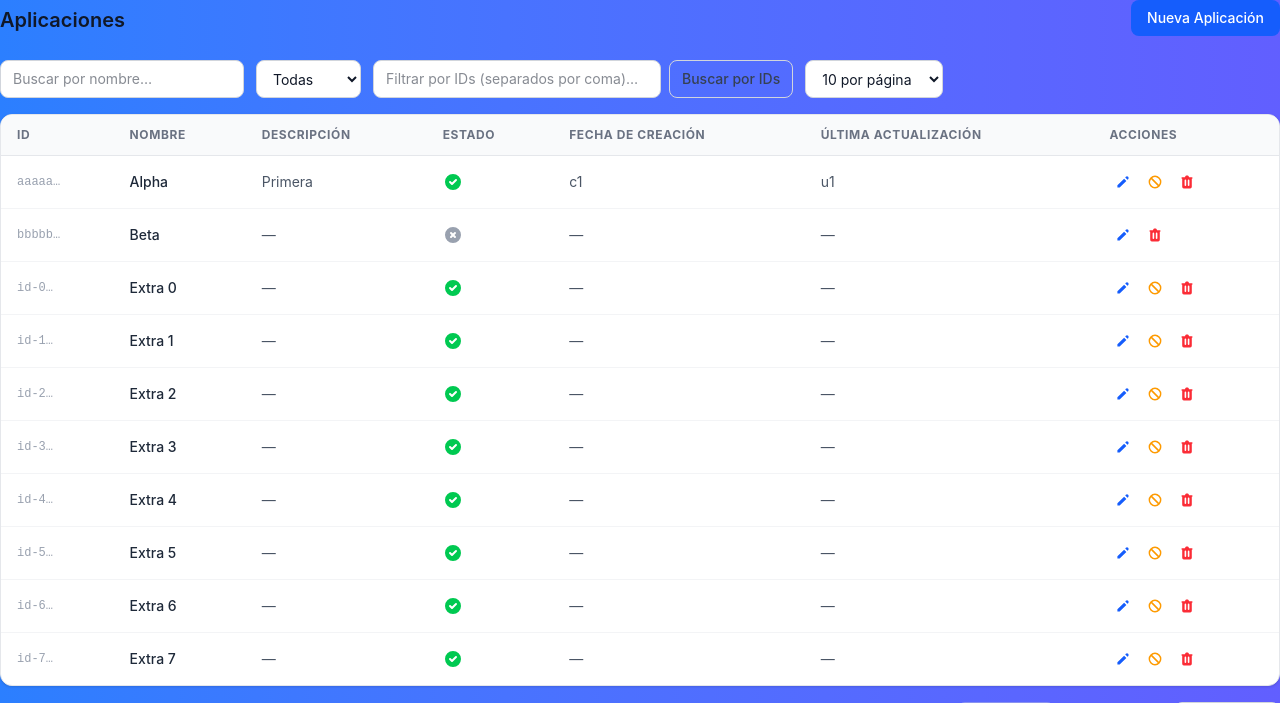
Test: ApplicationsListComponent › deletes after confirmation, updating the list and directory
The width and height of the screenshot is (1280, 703).
Click the button titled "Eliminar" in the row of "aaaaa…": (1187, 182) [1173,168,1201,196]
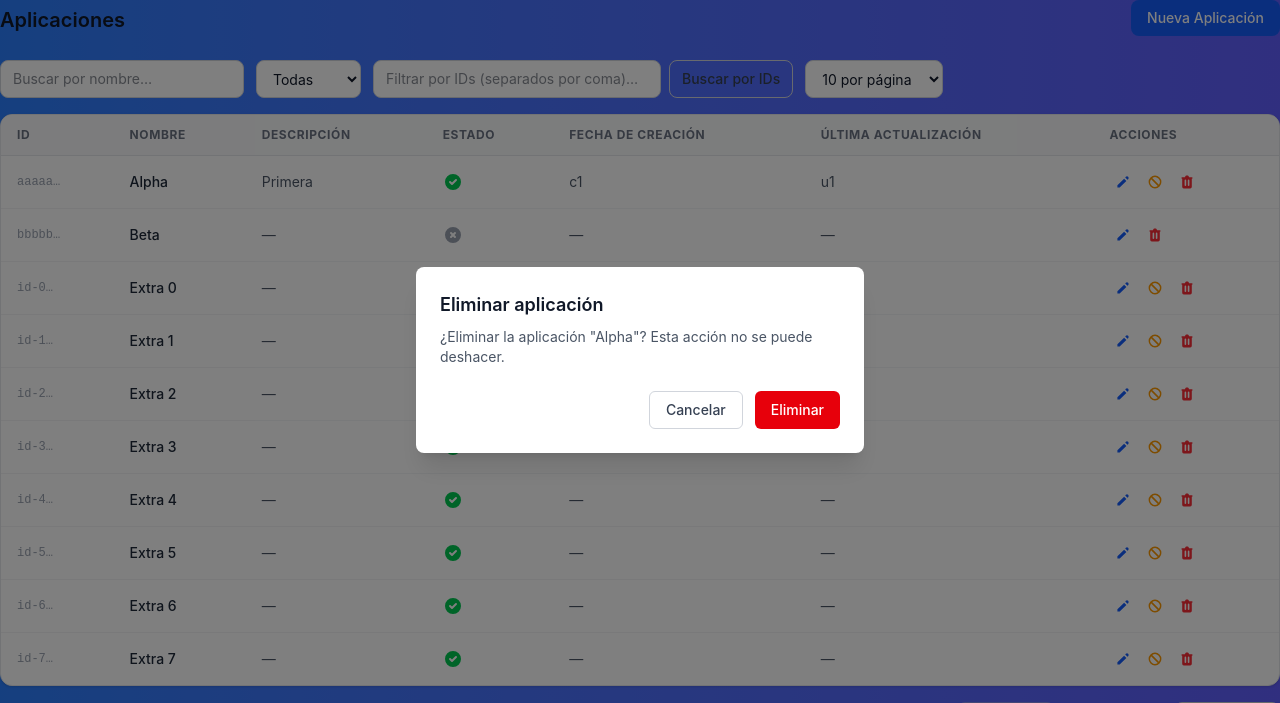
Check: the text "Eliminar aplicación" is shown, box [440,294,603,315]
Click the button "Eliminar": (797, 410) [755,391,840,429]
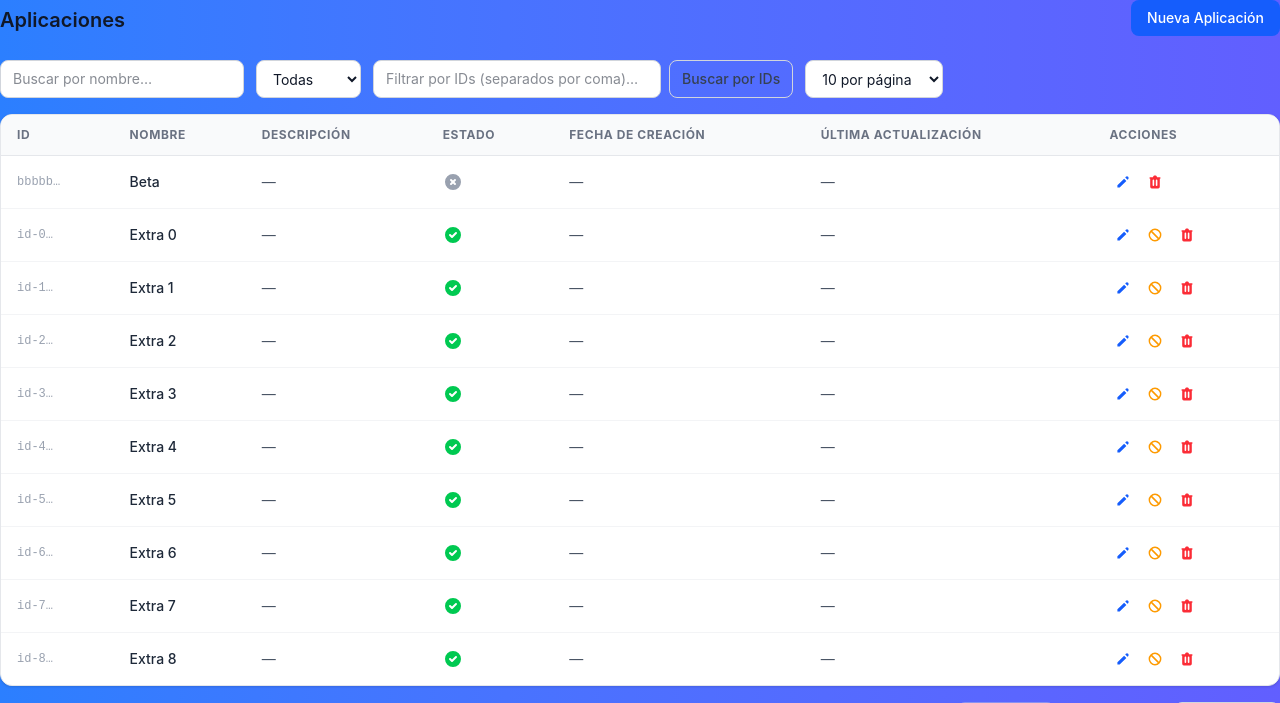
Check: the text "Alpha" is gone
